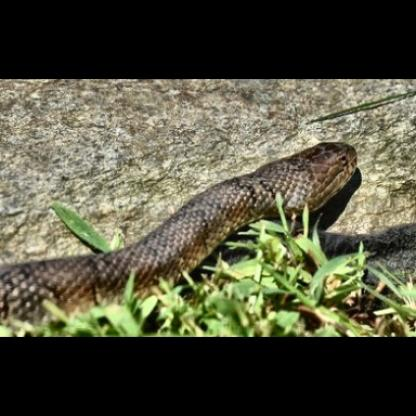Snake: (1, 135, 360, 315)
